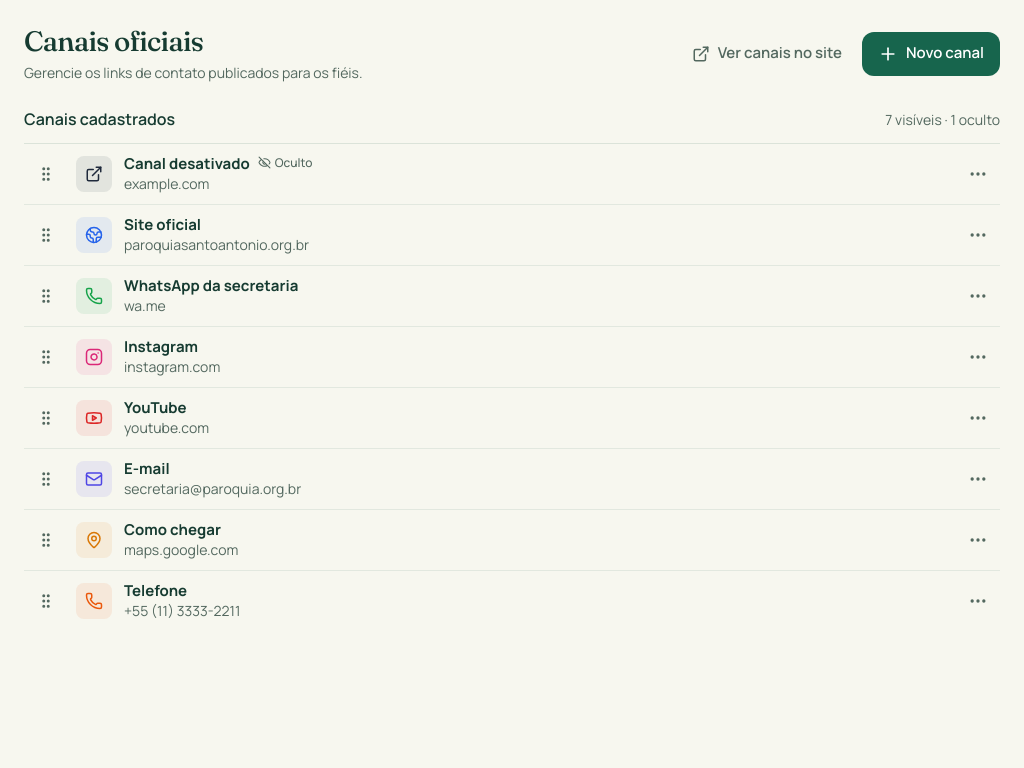
Test: áreas administrativas públicas › gerencia canais ativos e inativos
This screenshot has width=1024, height=768.
Click the button with aria-label "Editar canal Canal desativado": (94, 174) [72, 150, 952, 198]
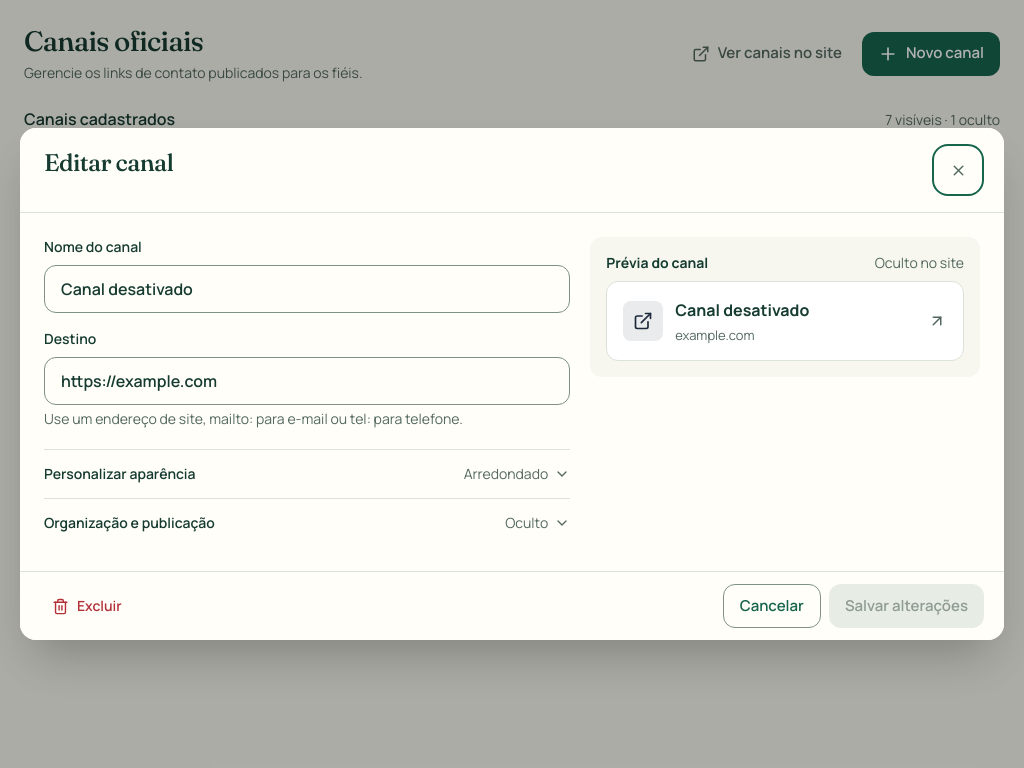
Replace the text in the field labelled "Nome do canal" with "Canal arquivado": (307, 289) [44, 265, 570, 313]
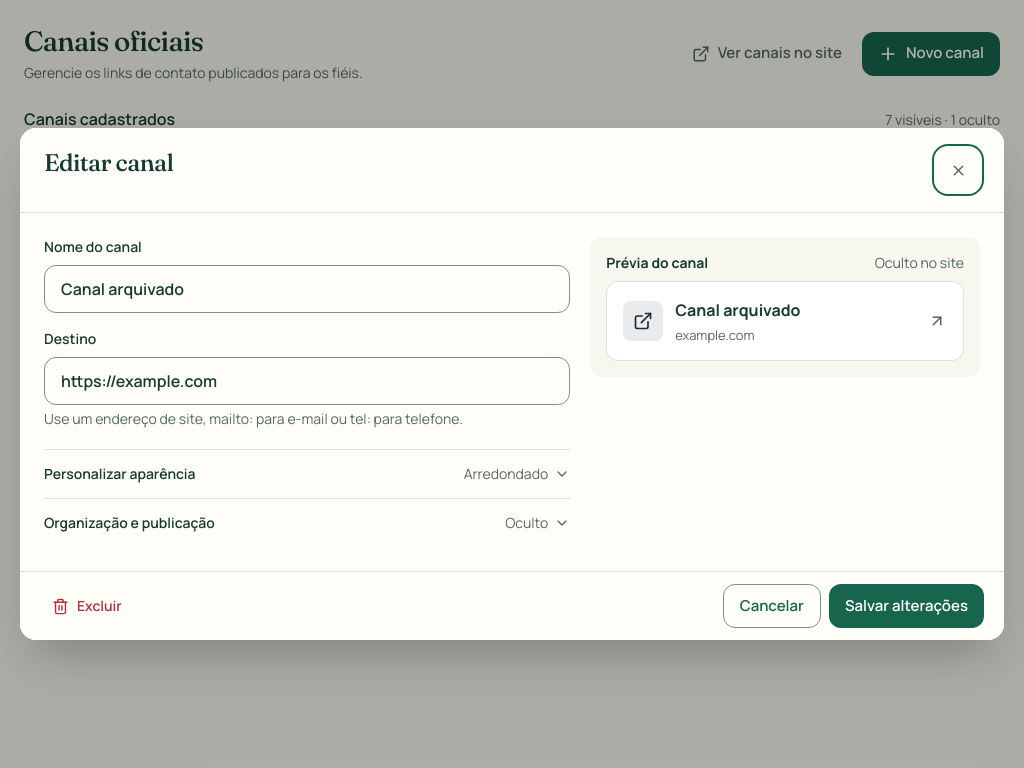
Click the button "Salvar alterações": (906, 606) [829, 584, 984, 628]
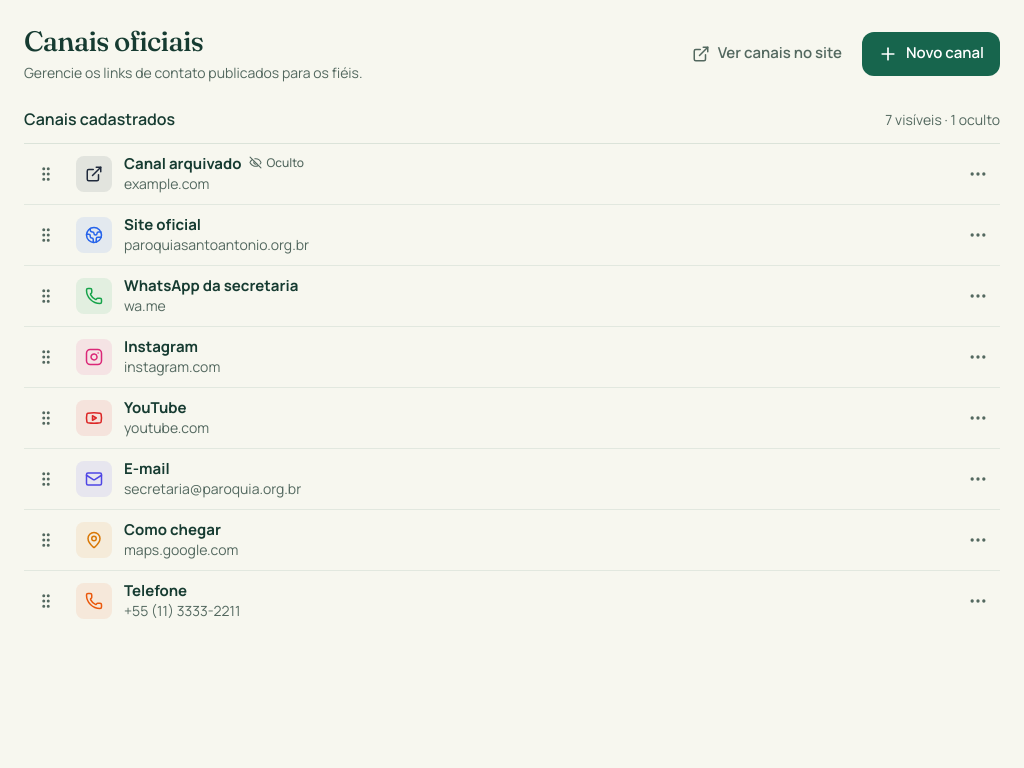
Check: the text "Oculto" is shown, box [249, 154, 304, 170]
Check: the button with aria-label "Editar canal Canal arquivado" is shown, box [72, 150, 952, 198]
